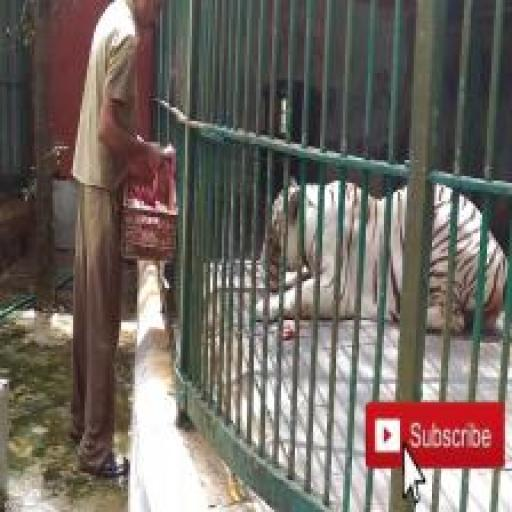Tiger: (253, 176, 512, 335)
